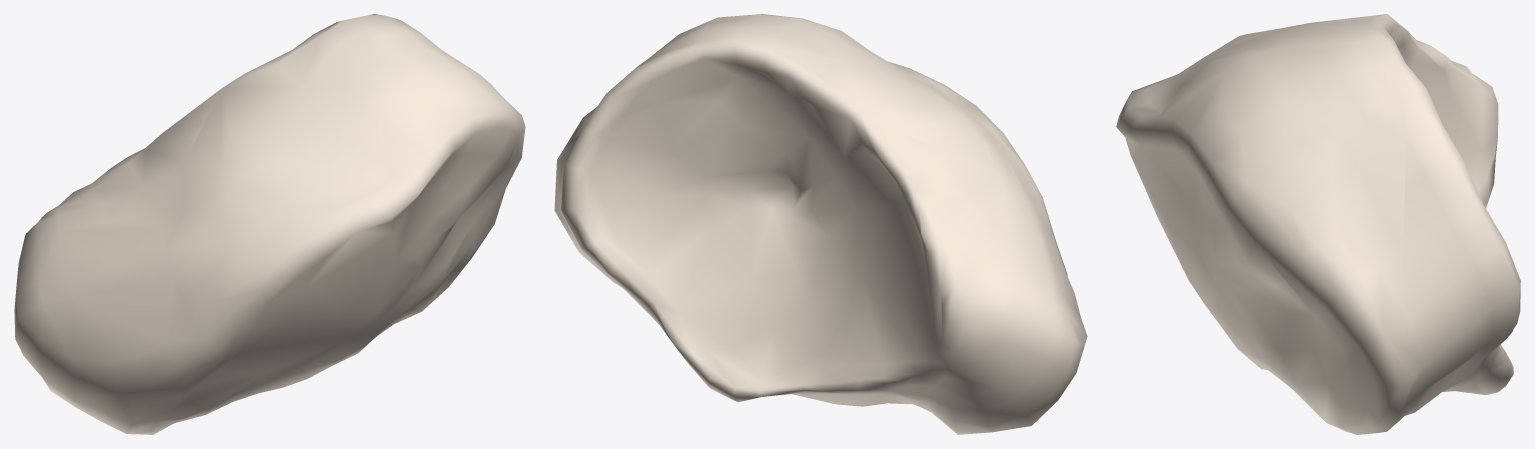
The model's file is left_navicular.glb.
The picture shows the model from 3 angles, left to right: view 1: azimuth 30°, elevation 25°; view 2: azimuth 150°, elevation 25°; view 3: azimuth 270°, elevation 25°; orthographic projection. The views are drawn at different scales.
Parts seen in each view (by area): view 1: Navicular bone.r; view 2: Navicular bone.r; view 3: Navicular bone.r.
Boxes of the visible parts, box(x1,y1,x2,y2) form: Navicular bone.r: box(14, 14, 525, 434); Navicular bone.r: box(554, 14, 1087, 434); Navicular bone.r: box(1116, 14, 1520, 434).
Bounding box in the file's own units: 0.0414 × 0.027 × 0.0236.
